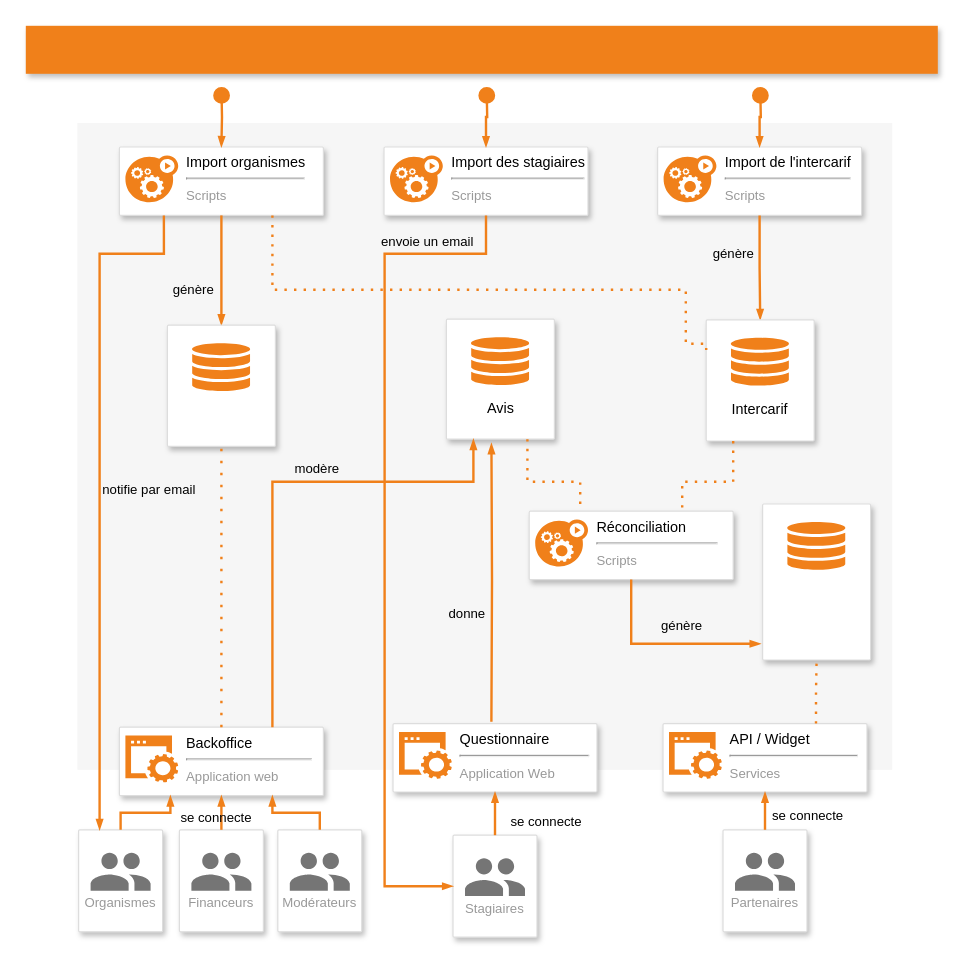
Some shapes in this 965 by 966 pixel diagram are drawn without their labels. The shapes that lost their labels are listed below. From the top down, each one's centre as x and y in pixels, then its label:
At point (482, 51): "Anotéa".
At point (222, 387): "Comptes".
At point (817, 583): "Base des formations actions sessions".
